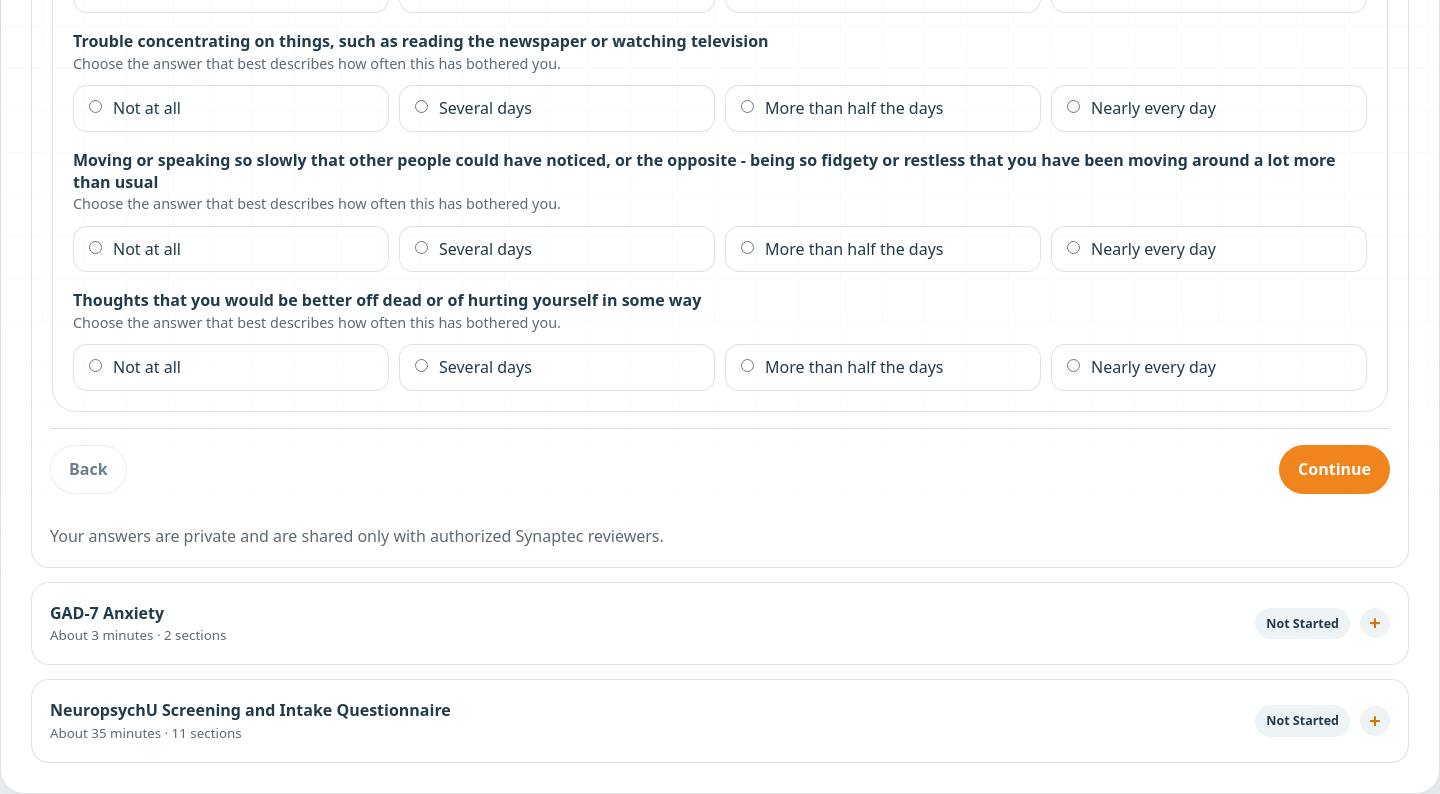
Test: QuestionnaireForm › walks the user through one section at a time and blocks advancing past unanswered required questions
(page scrolled)
Click the button "Continue".
click(1335, 470)  # box left=1279, top=445, right=1390, bottom=494
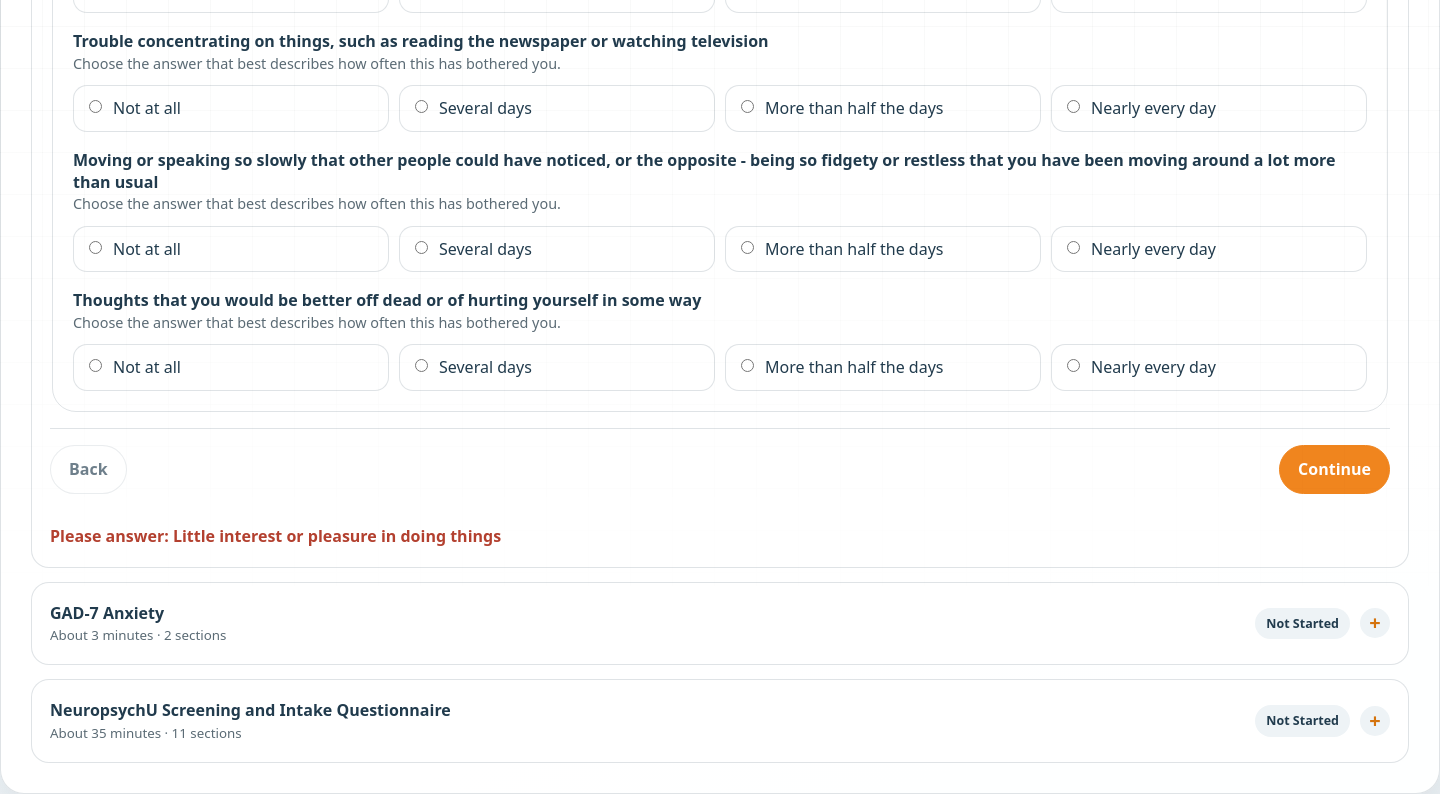
Expected: the message shows "Please answer", left=50, top=525, right=501, bottom=547
